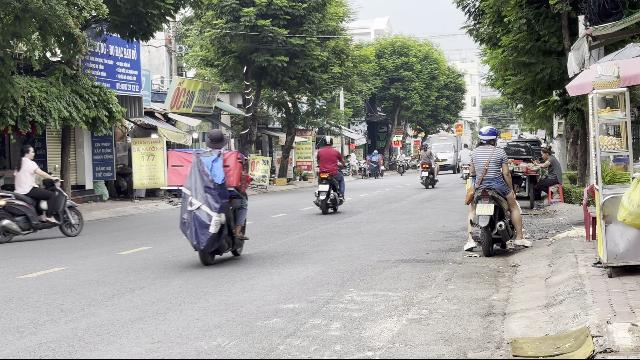helmet: (476, 126, 498, 146)
licenseplate: (476, 204, 494, 214)
motorcyclist: (176, 126, 252, 266), (1, 143, 89, 247), (461, 124, 525, 256)
nohelmet: (206, 128, 227, 150), (17, 144, 35, 162)
